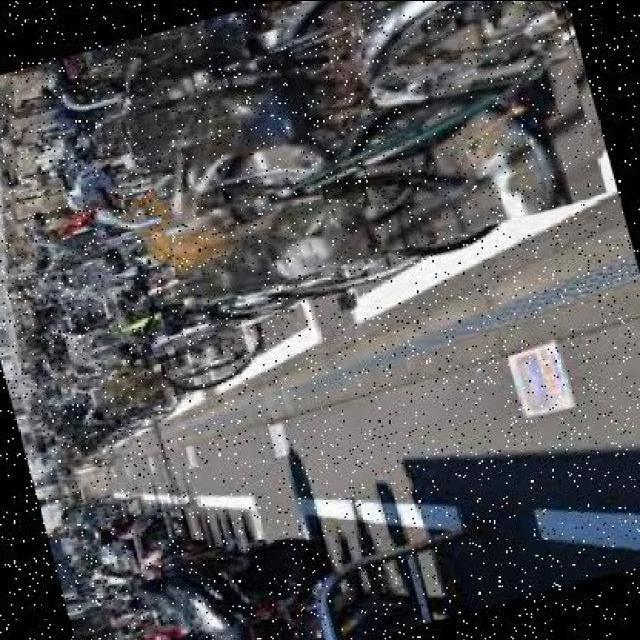bicycle: (116, 2, 614, 305)
